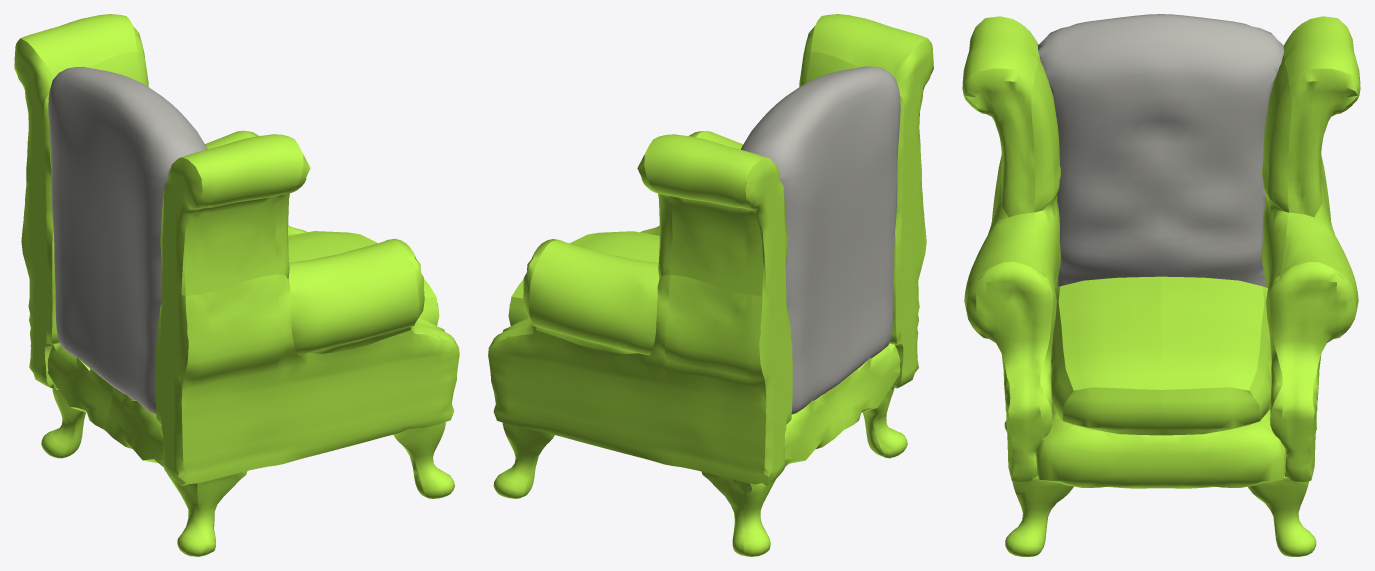
3 views of the same model, side by side, from view 1: azimuth 30°, elevation 25°; view 2: azimuth 150°, elevation 25°; view 3: azimuth 270°, elevation 25° (orthographic).
Parts seen in each view (by area): view 1: split_parent_0, Zada_low_Aikreslo_0; view 2: split_parent_0, Zada_low_Aikreslo_0; view 3: split_parent_0, Zada_low_Aikreslo_0.
Part boxes in pixels (box(x1,y1,x2,y2)): split_parent_0: box(14, 14, 459, 556); Zada_low_Aikreslo_0: box(48, 66, 207, 414); split_parent_0: box(488, 14, 933, 556); Zada_low_Aikreslo_0: box(741, 66, 900, 414); split_parent_0: box(962, 16, 1360, 556); Zada_low_Aikreslo_0: box(1038, 14, 1284, 287).
Bounding box in the file's own units: 0.7721 × 1 × 0.8636.
